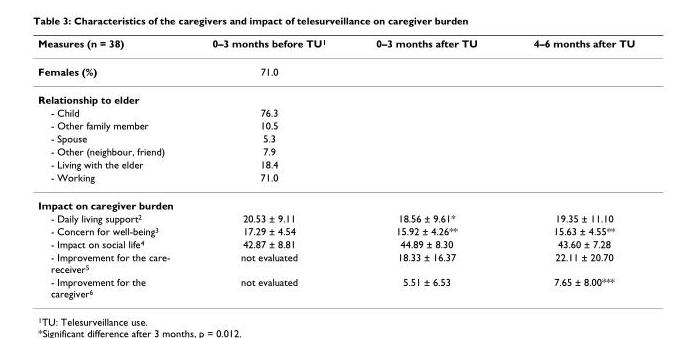table: (37, 36, 634, 298)
table column: (192, 36, 350, 298), (37, 36, 192, 298), (350, 36, 504, 298), (504, 36, 634, 298)
table column header: (37, 36, 634, 56)
table projected row header: (37, 190, 634, 211), (37, 85, 634, 105)
table row: (37, 56, 634, 85), (37, 250, 634, 274), (37, 274, 634, 298), (37, 190, 634, 211), (37, 36, 634, 56), (37, 85, 634, 105), (37, 170, 634, 190), (37, 105, 634, 118), (37, 118, 634, 131), (37, 131, 634, 144), (37, 144, 634, 157), (37, 157, 634, 170), (37, 211, 634, 224), (37, 224, 634, 237), (37, 237, 634, 250)
